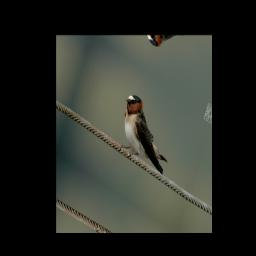Swallow: (110, 86, 181, 179)
